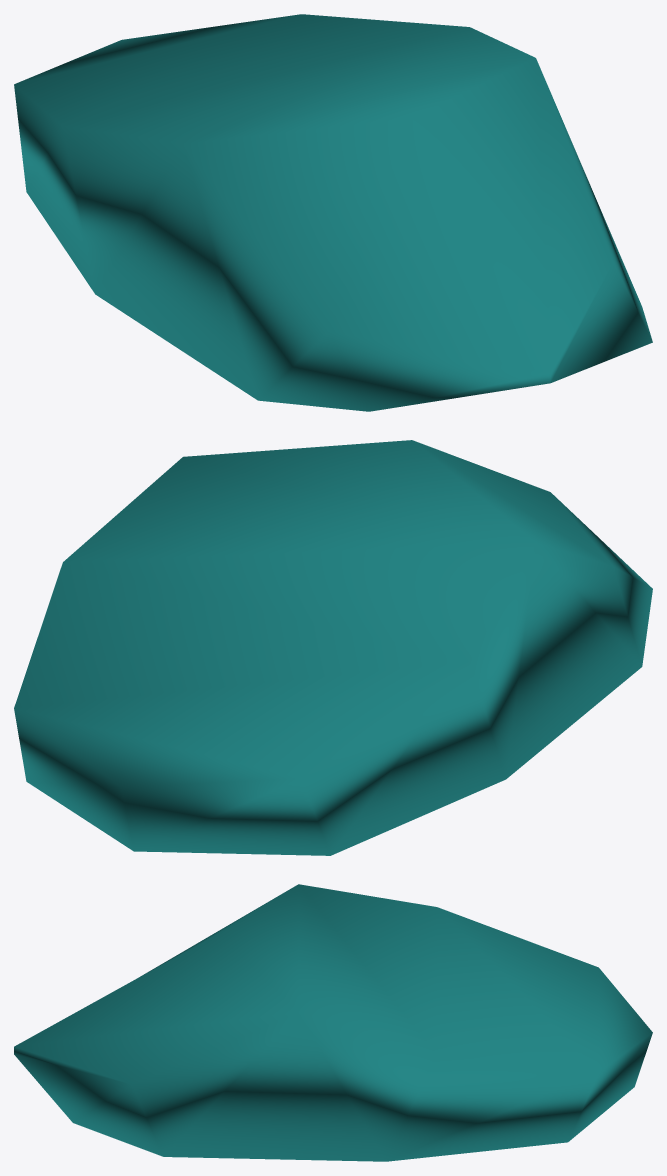
The model's file is tennis_cap_collider.fbx.
3 renders of one model, top to bottom at view 1: azimuth 30°, elevation 25°; view 2: azimuth 150°, elevation 25°; view 3: azimuth 270°, elevation 25°, orthographic. The views are drawn at different scales.
Visible parts, largest first — view 1: tennis_cap_collider; view 2: tennis_cap_collider; view 3: tennis_cap_collider.
Boxes of the visible parts, left/top/right/bottom form: tennis_cap_collider: left=14, top=14, right=652, bottom=411; tennis_cap_collider: left=14, top=440, right=652, bottom=855; tennis_cap_collider: left=14, top=884, right=652, bottom=1161.
Bounding box in the file's own units: 22.28 × 10.76 × 40.3.
